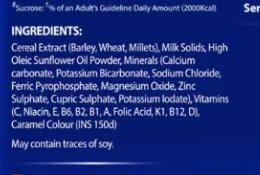ingredients: (10, 18, 243, 155)
